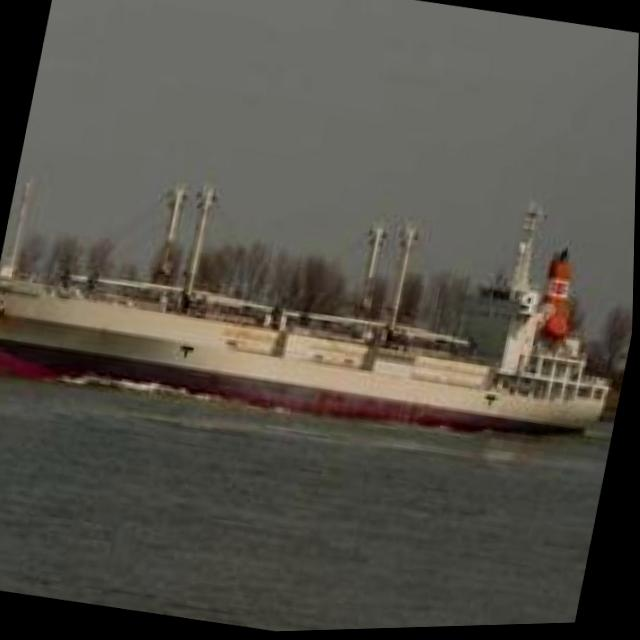ship2: (0, 164, 614, 439)
